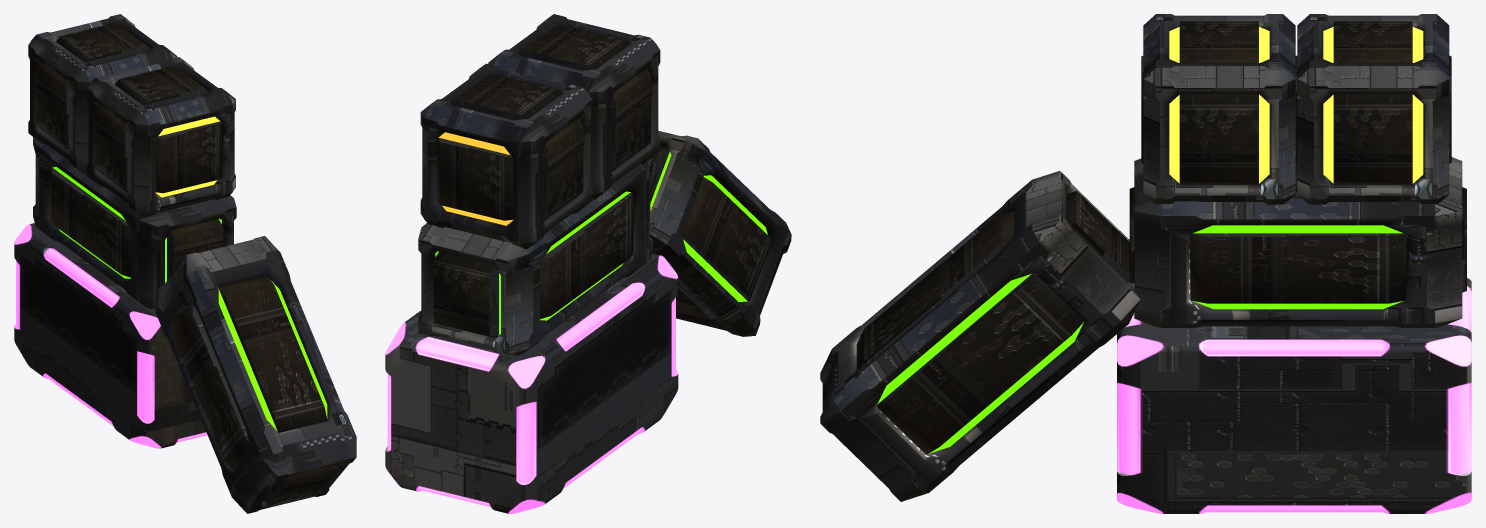
The model's file is Cargo Crates.glb.
The picture shows the model from 3 angles, left to right: view 1: azimuth 30°, elevation 25°; view 2: azimuth 150°, elevation 25°; view 3: azimuth 270°, elevation 25°; orthographic projection. The views are drawn at different scales.
Parts seen in each view (by area): view 1: Cargo Crates; view 2: Cargo Crates; view 3: Cargo Crates.
Part boxes in pixels (bbox=[...]): Cargo Crates: bbox=[14, 14, 356, 513]; Cargo Crates: bbox=[385, 14, 791, 513]; Cargo Crates: bbox=[820, 14, 1471, 513].
Size of what is drawn, in the model's own units: 1.17 by 2.98 by 4.03.
Materials: 7 (5 with a texture image).
